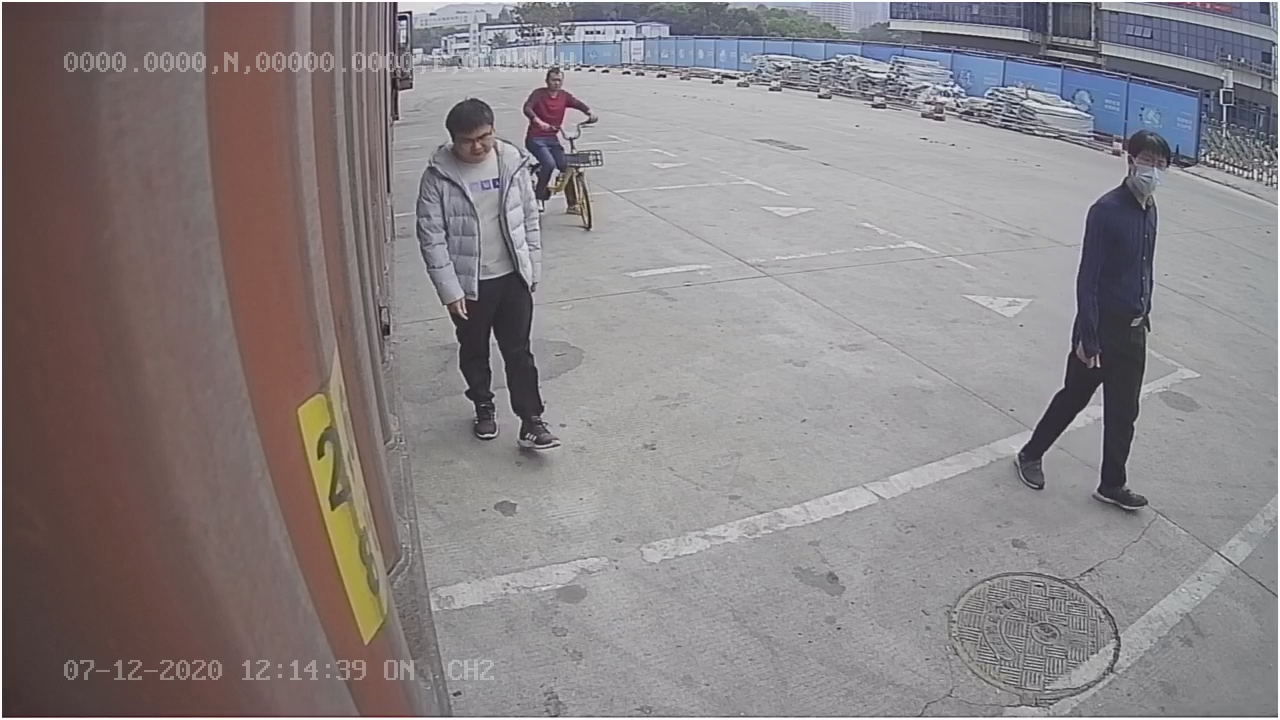person: (1011, 117, 1172, 512)
